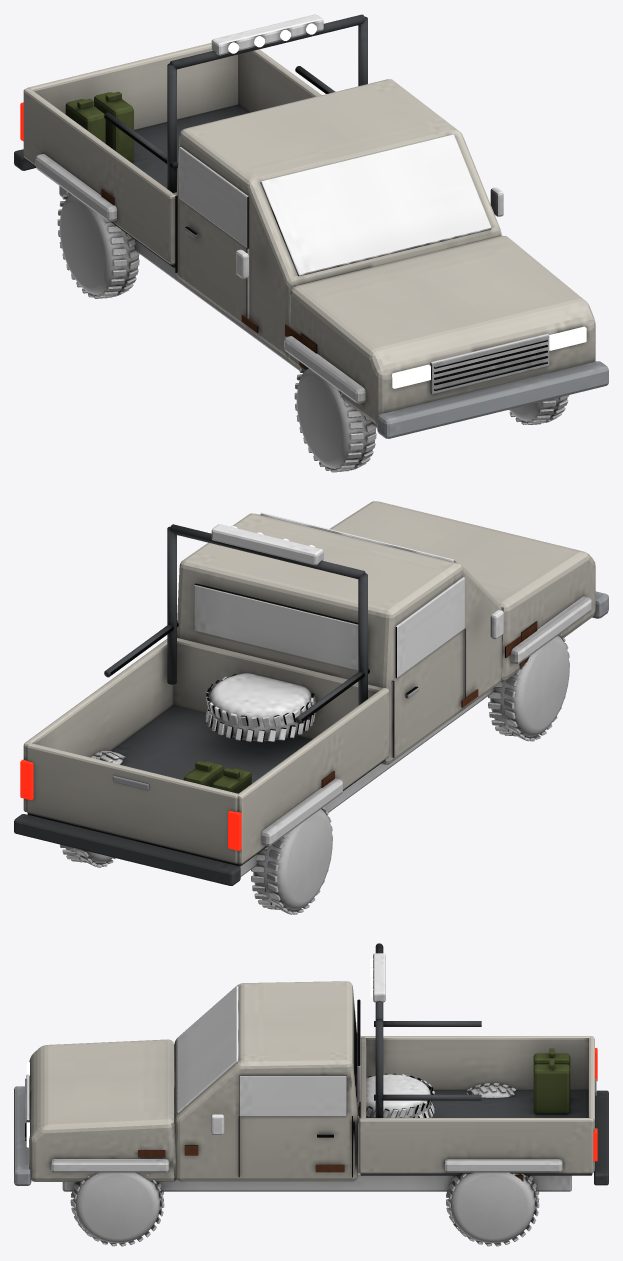
File: technical.glb
3 views of the same model, one above another, from view 1: azimuth 30°, elevation 25°; view 2: azimuth 150°, elevation 25°; view 3: azimuth 270°, elevation 25° (orthographic). The views are drawn at different scales.
Parts seen in each view (by area): view 1: body, tailgate, wheel_rl, wheel_fl, wheel_fr; view 2: body, tailgate, wheel_rl, wheel_fl, wheel_rr; view 3: body, wheel_rr, wheel_fr, tailgate, wheel_rl.
Part boxes in pixels (x1,y1,x2,y2): body: (14, 14, 608, 438); tailgate: (27, 43, 238, 129); wheel_rl: (57, 191, 139, 298); wheel_fl: (294, 368, 376, 472); wheel_fr: (508, 395, 569, 424); body: (14, 501, 608, 885); tailgate: (26, 743, 238, 863); wheel_rl: (251, 807, 332, 914); wheel_fl: (488, 634, 569, 741); wheel_rr: (60, 750, 125, 867); body: (14, 943, 608, 1191); wheel_rr: (446, 1172, 539, 1246); wheel_fr: (70, 1172, 164, 1246); tailgate: (588, 1037, 596, 1171); wheel_rl: (466, 1083, 516, 1097).
Bounding box in the file's own units: 2.22 × 2.37 × 5.52.
Materials: 13 (11 with a texture image).
